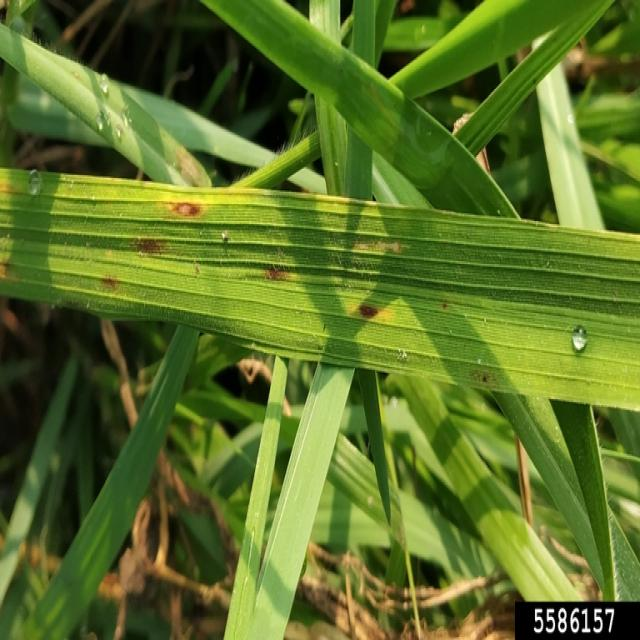Brown spot: (343, 283, 393, 333), (255, 250, 306, 290), (126, 225, 172, 266), (166, 189, 209, 231), (93, 266, 128, 304), (0, 256, 30, 291)
